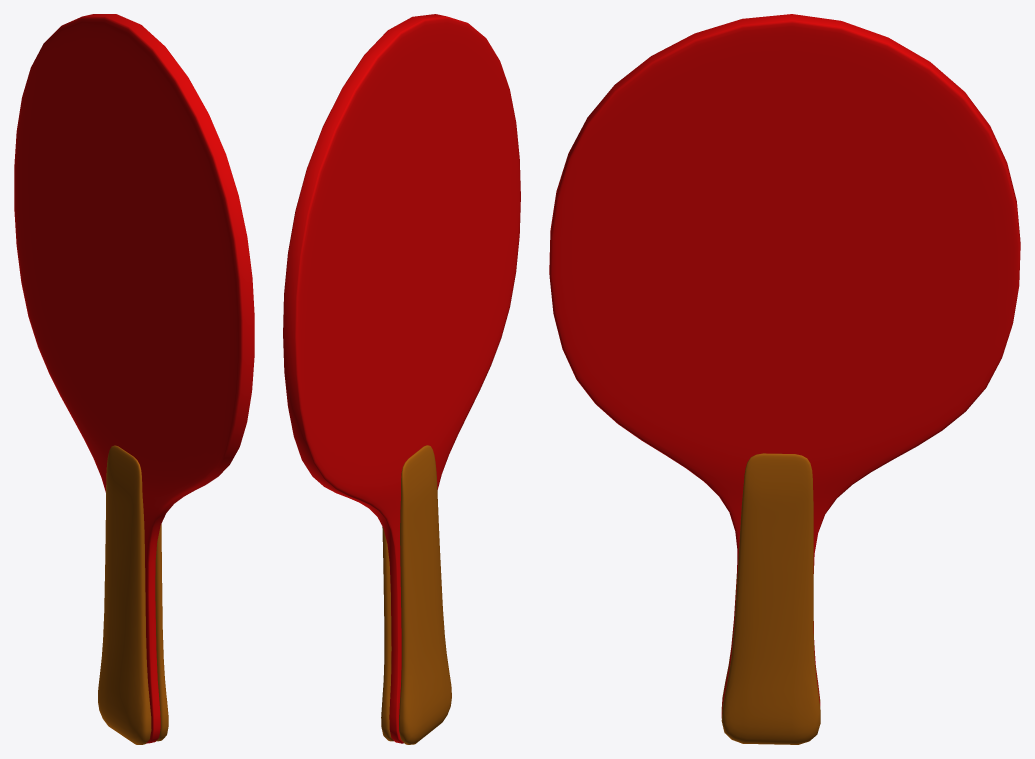
File: racket.fbx
3 renders of one model, left to right at view 1: azimuth 30°, elevation 25°; view 2: azimuth 150°, elevation 25°; view 3: azimuth 270°, elevation 25°, orthographic. The views are drawn at different scales.
Parts seen in each view (by area): view 1: racket; view 2: racket; view 3: racket.
Part boxes in pixels (box(x1,y1,x2,y2)): racket: box(14, 14, 254, 744); racket: box(283, 14, 520, 744); racket: box(549, 14, 1020, 744).
Bounding box in the file's own units: 1.52 × 28.48 × 16.65.
